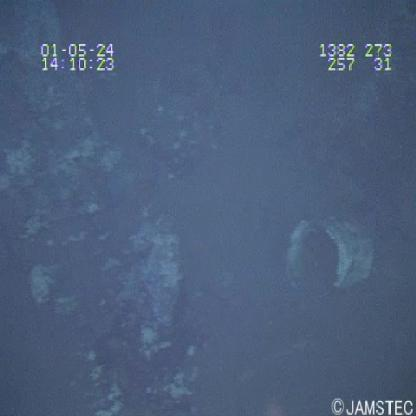Rác: (285, 208, 382, 303)
